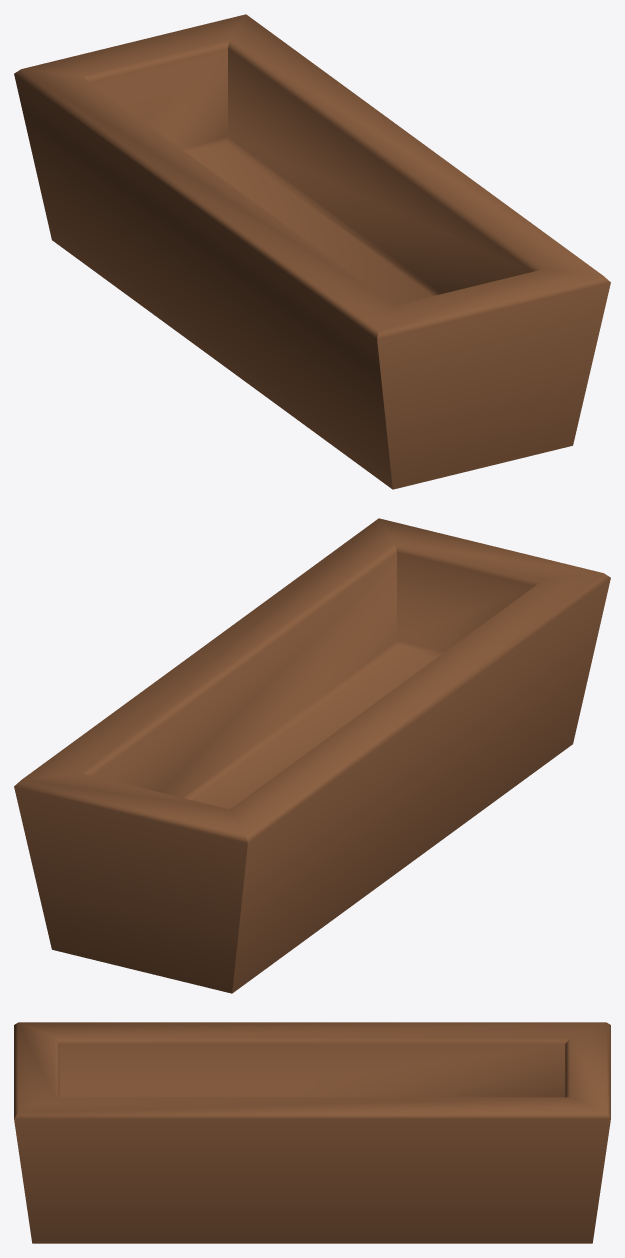
File: Basin.fbx
3 renders of one model, top to bottom at view 1: azimuth 30°, elevation 25°; view 2: azimuth 150°, elevation 25°; view 3: azimuth 270°, elevation 25°, orthographic. The views are drawn at different scales.
Parts seen in each view (by area): view 1: Cube.977; view 2: Cube.977; view 3: Cube.977.
Part boxes in pixels (x1=…): Cube.977: x1=14, y1=14, x2=610, y2=489; Cube.977: x1=14, y1=518, x2=610, y2=993; Cube.977: x1=14, y1=1022, x2=610, y2=1243.
Bounding box in the file's own units: 13.28 × 9.24 × 35.72.
